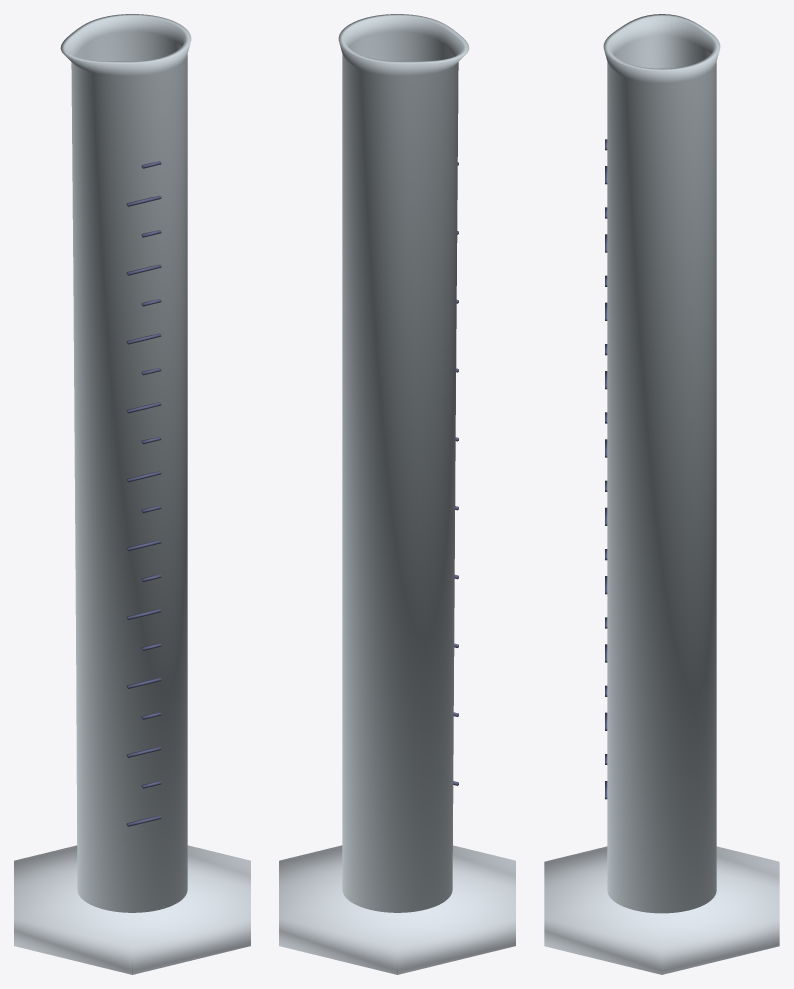
Rendered from probeta.glb.
3 views of the same model, side by side, from view 1: azimuth 30°, elevation 25°; view 2: azimuth 150°, elevation 25°; view 3: azimuth 270°, elevation 25° (orthographic).
Visible parts, largest first — view 1: probeta_1, probeta_2, probeta_3; view 2: probeta_1, probeta_2; view 3: probeta_1, probeta_2, probeta_3.
Boxes of the visible parts, x1,y1,x2,y2 form: probeta_1: [60, 14, 191, 912]; probeta_2: [14, 845, 250, 974]; probeta_3: [126, 161, 161, 826]; probeta_1: [338, 14, 469, 912]; probeta_2: [279, 845, 515, 974]; probeta_1: [603, 14, 720, 913]; probeta_2: [544, 846, 779, 974]; probeta_3: [605, 139, 607, 799].
Size of the model in its own units: 0.072 by 0.255 by 0.0624.
